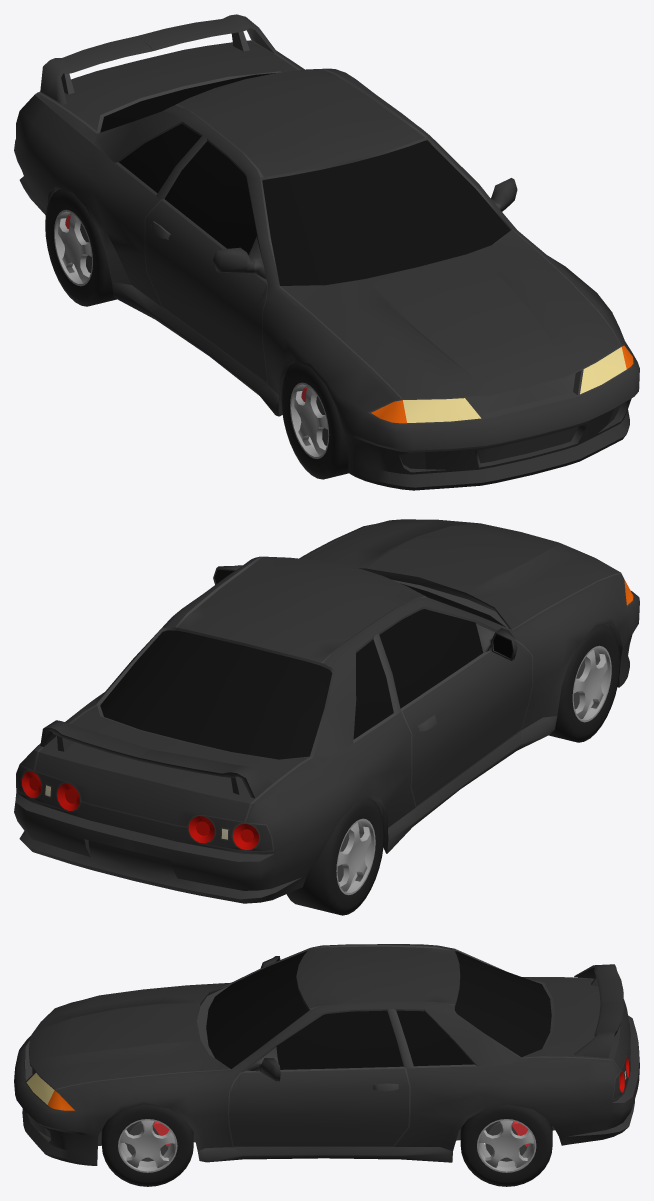
Rendered from nissan.glb.
The picture shows the model from 3 angles, top to bottom: view 1: azimuth 30°, elevation 25°; view 2: azimuth 150°, elevation 25°; view 3: azimuth 270°, elevation 25°; orthographic projection. The views are drawn at different scales.
Visible parts, largest first — view 1: Body, Spoiler, Tire_FR, Tire_RR, Rim_FR, Rim_RR; view 2: Body, Tire_RR, Spoiler, Tire_FR, Rim_RR, Rim_FR; view 3: Body, Tire_RL, Tire_FL, Spoiler, Rim_FL, Rim_RL.
Boxes of the visible parts, left/top/right/bottom form: Body: left=14, top=40, right=639, bottom=490; Spoiler: left=40, top=14, right=276, bottom=104; Tire_FR: left=281, top=362, right=348, bottom=479; Tire_RR: left=45, top=189, right=116, bottom=306; Rim_FR: left=290, top=382, right=329, bottom=458; Rim_RR: left=54, top=209, right=92, bottom=286; Body: left=14, top=519, right=639, bottom=903; Tire_RR: left=286, top=798, right=384, bottom=915; Spoiler: left=40, top=720, right=276, bottom=798; Tire_FR: left=549, top=625, right=620, bottom=742; Rim_RR: left=336, top=818, right=375, bottom=895; Rim_FR: left=572, top=645, right=611, bottom=722; Body: left=14, top=944, right=639, bottom=1165; Tire_RL: left=460, top=1104, right=552, bottom=1186; Tire_FL: left=101, top=1104, right=193, bottom=1186; Spoiler: left=574, top=964, right=623, bottom=1057; Rim_FL: left=118, top=1119, right=177, bottom=1172; Rim_RL: left=477, top=1119, right=536, bottom=1172.
Size of the model in its own units: 1.31 by 0.899 by 3.1.
Materials: 1 (1 with a texture image).
